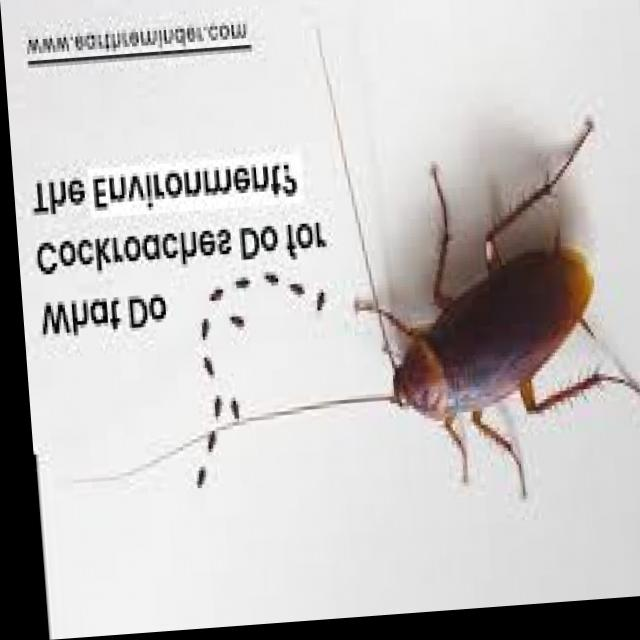Cockroach: (322, 80, 640, 601)
